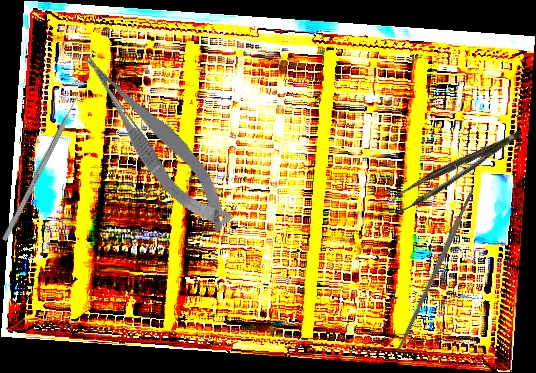Micro Scissor: (73, 33, 240, 246)
Pusher: (1, 84, 86, 242)
Scalpel Handle: (395, 189, 477, 352)
Tissue Forceps: (385, 129, 531, 215)
